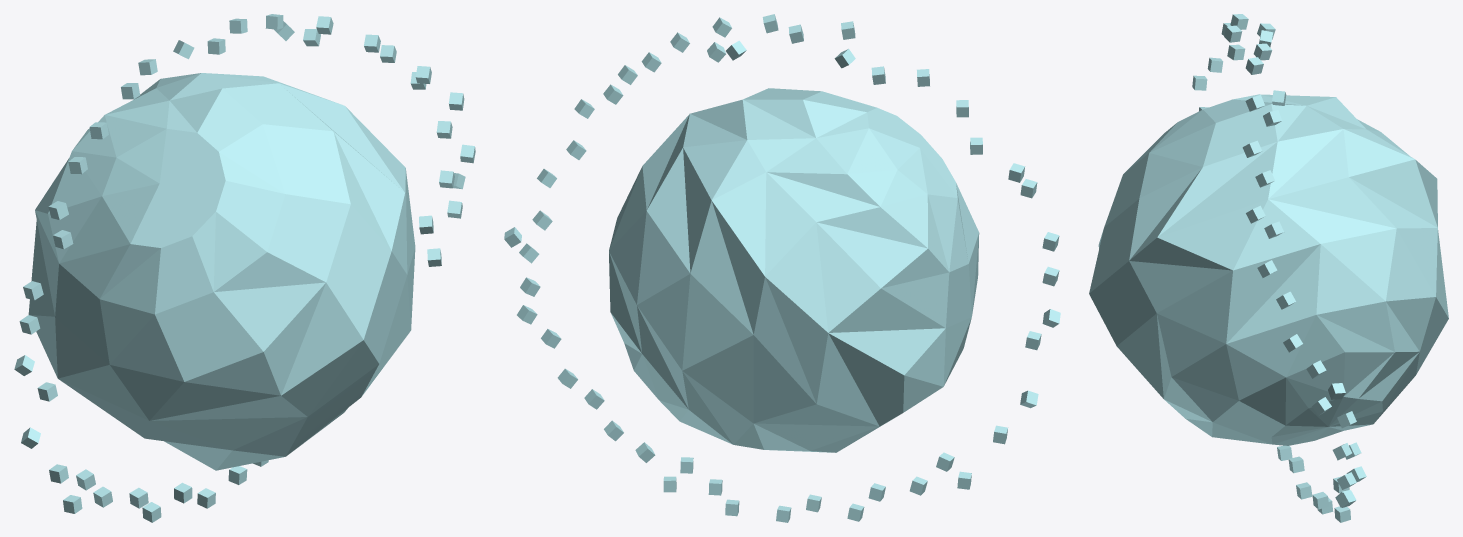
Rendered from uranus.gltf.
3 renders of one model, left to right at view 1: azimuth 30°, elevation 25°; view 2: azimuth 150°, elevation 25°; view 3: azimuth 270°, elevation 25°, orthographic. The views are drawn at different scales.
Parts seen in each view (by area): view 1: model.178; view 2: model.178; view 3: model.178.
Boxes of the visible parts, x1,y1,x2,y2 form: model.178: [28, 73, 415, 470]; model.178: [609, 88, 979, 452]; model.178: [1089, 94, 1448, 445].
Bounding box in the file's own units: 6.92 × 6.41 × 4.58.
